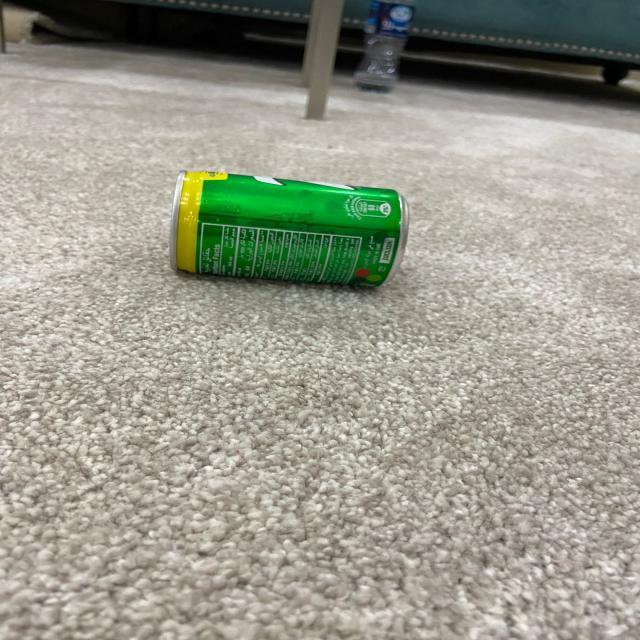can: (172, 167, 408, 294)
